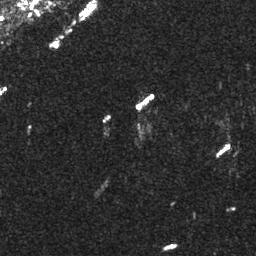ship: (135, 92, 156, 112), (78, 4, 98, 21), (215, 143, 231, 157), (162, 241, 178, 252), (101, 114, 112, 124)
